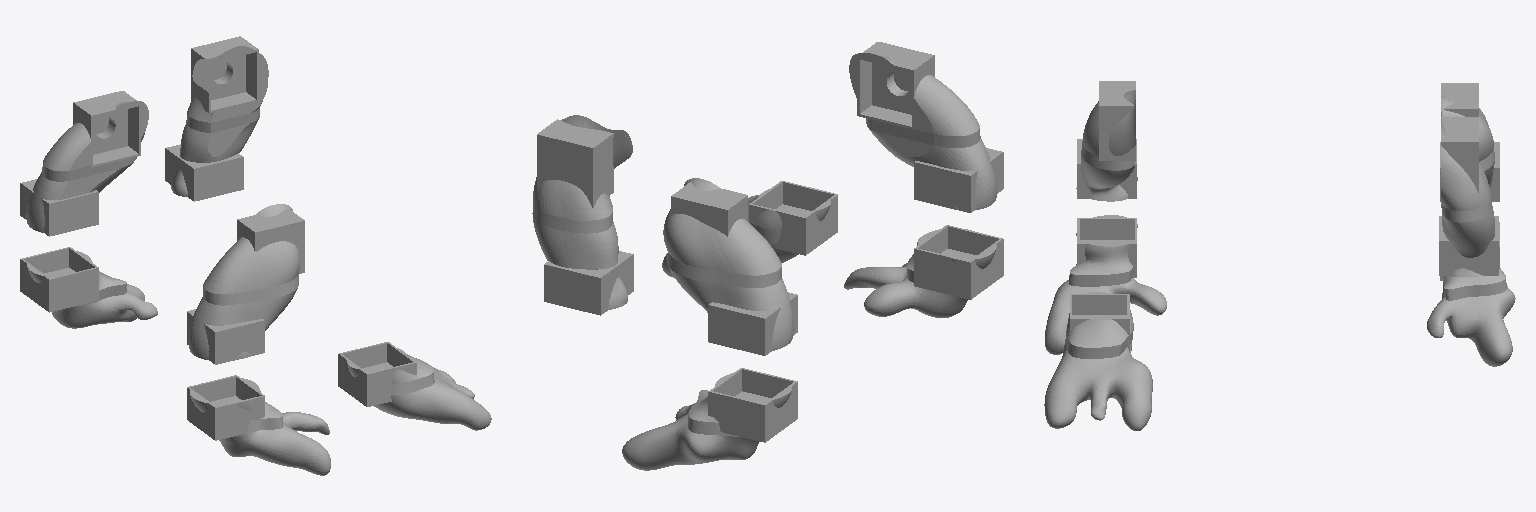
robot.urdf — FrogBot4_top-FrogBot4-z-2_bottom-FrogBot4-z-2:
<?xml version="1.0" ?>
<robot name="FrogBot4_top-FrogBot4-z-2_bottom-FrogBot4-z-2">

<material name="pla_5_percent_infill">
  <color rgba="0.700 0.700 0.700 1.000"/>
</material>

<link name="base_link">
  <inertial>
    <origin xyz="0 0 0" rpy="0 0 0"/>
    <mass value="1.4608203761339813"/>
    <inertia ixx="0.00496034401110324" iyy="0.010259632804669863" izz="0.010457868746855814" ixy="4.519338143051983e-05" iyz="5.808312742508133e-05" ixz="-0.001193761897574285"/>
  </inertial>
  <visual>
    <origin xyz="0 0 0" rpy="0 0 0"/>
    <geometry>
      <mesh filename="simple_meshes/base_link.stl" scale="0.001 0.001 0.001"/>
    </geometry>
    <material name="pla_5_percent_infill"/>
  </visual>
  <collision>
    <origin xyz="0 0 0" rpy="0 0 0"/>
    <geometry>
      <mesh filename="simple_meshes/base_link.stl" scale="0.001 0.001 0.001"/>
    </geometry>
  </collision>
</link>

<link name="body_1_0_1">
  <inertial>
    <origin xyz="-0.039935 -0.102508 -0.020563" rpy="0 0 0"/>
    <mass value="0.06729062247425834"/>
    <inertia ixx="6.650940585622273e-05" iyy="7.92938861357136e-05" izz="3.0239302509227567e-05" ixy="8.61005497754491e-07" iyz="1.986686418940721e-06" ixz="-1.1591827009887585e-05"/>
  </inertial>
  <visual>
    <origin xyz="-0.039935 -0.102508 -0.020563" rpy="0 0 0"/>
    <geometry>
      <mesh filename="simple_meshes/body_1_0_1.stl" scale="0.001 0.001 0.001"/>
    </geometry>
    <material name="pla_5_percent_infill"/>
  </visual>
  <collision>
    <origin xyz="-0.039935 -0.102508 -0.020563" rpy="0 0 0"/>
    <geometry>
      <mesh filename="simple_meshes/body_1_0_1.stl" scale="0.001 0.001 0.001"/>
    </geometry>
  </collision>
</link>

<link name="body_1_1_1">
  <inertial>
    <origin xyz="0.084829 -0.102508 0.010182" rpy="0 0 0"/>
    <mass value="0.07276819722240083"/>
    <inertia ixx="4.687801835107173e-05" iyy="8.494672327904085e-05" izz="5.6820282464320124e-05" ixy="-1.3864684695145133e-06" iyz="1.1931270394424697e-06" ixz="-1.9977013110724788e-05"/>
  </inertial>
  <visual>
    <origin xyz="0.084829 -0.102508 0.010182" rpy="0 0 0"/>
    <geometry>
      <mesh filename="simple_meshes/body_1_1_1.stl" scale="0.001 0.001 0.001"/>
    </geometry>
    <material name="pla_5_percent_infill"/>
  </visual>
  <collision>
    <origin xyz="0.084829 -0.102508 0.010182" rpy="0 0 0"/>
    <geometry>
      <mesh filename="simple_meshes/body_1_1_1.stl" scale="0.001 0.001 0.001"/>
    </geometry>
  </collision>
</link>

<link name="body_1_2_1">
  <inertial>
    <origin xyz="-0.032973 0.102508 -0.03352" rpy="0 0 0"/>
    <mass value="0.07366163827641593"/>
    <inertia ixx="8.467458968518054e-05" iyy="9.673499422654575e-05" izz="3.373636643162303e-05" ixy="-2.290624319359943e-06" iyz="-9.5702778967156e-06" ixz="-9.925140335739747e-06"/>
  </inertial>
  <visual>
    <origin xyz="-0.032973 0.102508 -0.03352" rpy="0 0 0"/>
    <geometry>
      <mesh filename="simple_meshes/body_1_2_1.stl" scale="0.001 0.001 0.001"/>
    </geometry>
    <material name="pla_5_percent_infill"/>
  </visual>
  <collision>
    <origin xyz="-0.032973 0.102508 -0.03352" rpy="0 0 0"/>
    <geometry>
      <mesh filename="simple_meshes/body_1_2_1.stl" scale="0.001 0.001 0.001"/>
    </geometry>
  </collision>
</link>

<link name="body_1_3_1">
  <inertial>
    <origin xyz="0.075405 0.102508 -0.000907" rpy="0 0 0"/>
    <mass value="0.07818238057097533"/>
    <inertia ixx="5.2120243250322346e-05" iyy="9.10714484717417e-05" izz="5.947560682158107e-05" ixy="3.6260329410895895e-07" iyz="-1.2020559512422352e-06" ixz="-2.0193977673071977e-05"/>
  </inertial>
  <visual>
    <origin xyz="0.075405 0.102508 -0.000907" rpy="0 0 0"/>
    <geometry>
      <mesh filename="simple_meshes/body_1_3_1.stl" scale="0.001 0.001 0.001"/>
    </geometry>
    <material name="pla_5_percent_infill"/>
  </visual>
  <collision>
    <origin xyz="0.075405 0.102508 -0.000907" rpy="0 0 0"/>
    <geometry>
      <mesh filename="simple_meshes/body_1_3_1.stl" scale="0.001 0.001 0.001"/>
    </geometry>
  </collision>
</link>

<link name="body_2_0_1">
  <inertial>
    <origin xyz="-0.025656 -0.145015 0.095436" rpy="0 0 0"/>
    <mass value="0.06887271365029556"/>
    <inertia ixx="4.137229292340951e-05" iyy="6.360498681465677e-05" izz="7.721780878036503e-05" ixy="-7.092899948999429e-07" iyz="1.6196918583167436e-07" ixz="1.626886085428678e-05"/>
  </inertial>
  <visual>
    <origin xyz="-0.025656 -0.145015 0.095436" rpy="0 0 0"/>
    <geometry>
      <mesh filename="simple_meshes/body_2_0_1.stl" scale="0.001 0.001 0.001"/>
    </geometry>
    <material name="pla_5_percent_infill"/>
  </visual>
  <collision>
    <origin xyz="-0.025656 -0.145015 0.095436" rpy="0 0 0"/>
    <geometry>
      <mesh filename="simple_meshes/body_2_0_1.stl" scale="0.001 0.001 0.001"/>
    </geometry>
  </collision>
</link>

<link name="body_2_1_1">
  <inertial>
    <origin xyz="0.114857 -0.145661 0.095438" rpy="0 0 0"/>
    <mass value="0.061491149540836114"/>
    <inertia ixx="2.9038160554975892e-05" iyy="5.925035389460183e-05" izz="5.7177831876327424e-05" ixy="-5.214527070099935e-06" iyz="3.557932019266404e-06" ixz="1.6889837178203897e-05"/>
  </inertial>
  <visual>
    <origin xyz="0.114857 -0.145661 0.095438" rpy="0 0 0"/>
    <geometry>
      <mesh filename="simple_meshes/body_2_1_1.stl" scale="0.001 0.001 0.001"/>
    </geometry>
    <material name="pla_5_percent_infill"/>
  </visual>
  <collision>
    <origin xyz="0.114857 -0.145661 0.095438" rpy="0 0 0"/>
    <geometry>
      <mesh filename="simple_meshes/body_2_1_1.stl" scale="0.001 0.001 0.001"/>
    </geometry>
  </collision>
</link>

<link name="body_2_2_1">
  <inertial>
    <origin xyz="-0.022601 0.152053 0.095436" rpy="0 0 0"/>
    <mass value="0.07545638433280771"/>
    <inertia ixx="4.528670282930806e-05" iyy="6.830122182420982e-05" izz="8.333303976025466e-05" ixy="-1.468652481155389e-06" iyz="3.094578438630688e-07" ixz="1.7578655410337087e-05"/>
  </inertial>
  <visual>
    <origin xyz="-0.022601 0.152053 0.095436" rpy="0 0 0"/>
    <geometry>
      <mesh filename="simple_meshes/body_2_2_1.stl" scale="0.001 0.001 0.001"/>
    </geometry>
    <material name="pla_5_percent_infill"/>
  </visual>
  <collision>
    <origin xyz="-0.022601 0.152053 0.095436" rpy="0 0 0"/>
    <geometry>
      <mesh filename="simple_meshes/body_2_2_1.stl" scale="0.001 0.001 0.001"/>
    </geometry>
  </collision>
</link>

<link name="body_2_3_1">
  <inertial>
    <origin xyz="0.12145 0.146005 0.095436" rpy="0 0 0"/>
    <mass value="0.05845963416799891"/>
    <inertia ixx="3.543240684613291e-05" iyy="4.741524438203965e-05" izz="5.765584367478345e-05" ixy="8.01669679764206e-06" iyz="-5.9882767929034415e-06" ixz="1.1882587774193743e-05"/>
  </inertial>
  <visual>
    <origin xyz="0.12145 0.146005 0.095436" rpy="0 0 0"/>
    <geometry>
      <mesh filename="simple_meshes/body_2_3_1.stl" scale="0.001 0.001 0.001"/>
    </geometry>
    <material name="pla_5_percent_infill"/>
  </visual>
  <collision>
    <origin xyz="0.12145 0.146005 0.095436" rpy="0 0 0"/>
    <geometry>
      <mesh filename="simple_meshes/body_2_3_1.stl" scale="0.001 0.001 0.001"/>
    </geometry>
  </collision>
</link>

<joint name="joint_1_0" type="revolute">
  <origin xyz="0.039935 0.102508 0.020563" rpy="0 0 0"/>
  <parent link="base_link"/>
  <child link="body_1_0_1"/>
  <axis xyz="0.0 1.0 0.0"/>
  <limit upper="1.2" lower="-1.2" effort="3.8" velocity="5.4"/>
</joint>
<transmission name="joint_1_0_tran">
  <type>transmission_interface/SimpleTransmission</type>
  <joint name="joint_1_0">
    <hardwareInterface>PositionJointInterface</hardwareInterface>
  </joint>
  <actuator name="joint_1_0_actr">
    <hardwareInterface>PositionJointInterface</hardwareInterface>
    <mechanicalReduction>1</mechanicalReduction>
  </actuator>
</transmission>

<joint name="joint_1_1" type="revolute">
  <origin xyz="-0.084829 0.102508 -0.010182" rpy="0 0 0"/>
  <parent link="base_link"/>
  <child link="body_1_1_1"/>
  <axis xyz="0.0 1.0 0.0"/>
  <limit upper="1.2" lower="-1.2" effort="3.8" velocity="5.4"/>
</joint>
<transmission name="joint_1_1_tran">
  <type>transmission_interface/SimpleTransmission</type>
  <joint name="joint_1_1">
    <hardwareInterface>PositionJointInterface</hardwareInterface>
  </joint>
  <actuator name="joint_1_1_actr">
    <hardwareInterface>PositionJointInterface</hardwareInterface>
    <mechanicalReduction>1</mechanicalReduction>
  </actuator>
</transmission>

<joint name="joint_1_2" type="revolute">
  <origin xyz="0.032973 -0.102508 0.03352" rpy="0 0 0"/>
  <parent link="base_link"/>
  <child link="body_1_2_1"/>
  <axis xyz="0.0 1.0 0.0"/>
  <limit upper="1.2" lower="-1.2" effort="3.8" velocity="5.4"/>
</joint>
<transmission name="joint_1_2_tran">
  <type>transmission_interface/SimpleTransmission</type>
  <joint name="joint_1_2">
    <hardwareInterface>PositionJointInterface</hardwareInterface>
  </joint>
  <actuator name="joint_1_2_actr">
    <hardwareInterface>PositionJointInterface</hardwareInterface>
    <mechanicalReduction>1</mechanicalReduction>
  </actuator>
</transmission>

<joint name="joint_1_3" type="revolute">
  <origin xyz="-0.075405 -0.102508 0.000907" rpy="0 0 0"/>
  <parent link="base_link"/>
  <child link="body_1_3_1"/>
  <axis xyz="0.0 1.0 0.0"/>
  <limit upper="1.2" lower="-1.2" effort="3.8" velocity="5.4"/>
</joint>
<transmission name="joint_1_3_tran">
  <type>transmission_interface/SimpleTransmission</type>
  <joint name="joint_1_3">
    <hardwareInterface>PositionJointInterface</hardwareInterface>
  </joint>
  <actuator name="joint_1_3_actr">
    <hardwareInterface>PositionJointInterface</hardwareInterface>
    <mechanicalReduction>1</mechanicalReduction>
  </actuator>
</transmission>

<joint name="joint_2_0" type="revolute">
  <origin xyz="-0.014279 0.042507 -0.115999" rpy="0 0 0"/>
  <parent link="body_1_0_1"/>
  <child link="body_2_0_1"/>
  <axis xyz="0.0 0.0 1.0"/>
  <limit upper="1.2" lower="-1.2" effort="3.8" velocity="5.4"/>
</joint>
<transmission name="joint_2_0_tran">
  <type>transmission_interface/SimpleTransmission</type>
  <joint name="joint_2_0">
    <hardwareInterface>PositionJointInterface</hardwareInterface>
  </joint>
  <actuator name="joint_2_0_actr">
    <hardwareInterface>PositionJointInterface</hardwareInterface>
    <mechanicalReduction>1</mechanicalReduction>
  </actuator>
</transmission>

<joint name="joint_2_1" type="revolute">
  <origin xyz="-0.030028 0.043153 -0.085256" rpy="0 0 0"/>
  <parent link="body_1_1_1"/>
  <child link="body_2_1_1"/>
  <axis xyz="0.0 0.0 1.0"/>
  <limit upper="1.2" lower="-1.2" effort="3.8" velocity="5.4"/>
</joint>
<transmission name="joint_2_1_tran">
  <type>transmission_interface/SimpleTransmission</type>
  <joint name="joint_2_1">
    <hardwareInterface>PositionJointInterface</hardwareInterface>
  </joint>
  <actuator name="joint_2_1_actr">
    <hardwareInterface>PositionJointInterface</hardwareInterface>
    <mechanicalReduction>1</mechanicalReduction>
  </actuator>
</transmission>

<joint name="joint_2_2" type="revolute">
  <origin xyz="-0.010372 -0.049545 -0.128956" rpy="0 0 0"/>
  <parent link="body_1_2_1"/>
  <child link="body_2_2_1"/>
  <axis xyz="0.0 0.0 1.0"/>
  <limit upper="1.2" lower="-1.2" effort="3.8" velocity="5.4"/>
</joint>
<transmission name="joint_2_2_tran">
  <type>transmission_interface/SimpleTransmission</type>
  <joint name="joint_2_2">
    <hardwareInterface>PositionJointInterface</hardwareInterface>
  </joint>
  <actuator name="joint_2_2_actr">
    <hardwareInterface>PositionJointInterface</hardwareInterface>
    <mechanicalReduction>1</mechanicalReduction>
  </actuator>
</transmission>

<joint name="joint_2_3" type="revolute">
  <origin xyz="-0.046045 -0.043497 -0.096343" rpy="0 0 0"/>
  <parent link="body_1_3_1"/>
  <child link="body_2_3_1"/>
  <axis xyz="0.0 0.0 1.0"/>
  <limit upper="1.2" lower="-1.2" effort="3.8" velocity="5.4"/>
</joint>
<transmission name="joint_2_3_tran">
  <type>transmission_interface/SimpleTransmission</type>
  <joint name="joint_2_3">
    <hardwareInterface>PositionJointInterface</hardwareInterface>
  </joint>
  <actuator name="joint_2_3_actr">
    <hardwareInterface>PositionJointInterface</hardwareInterface>
    <mechanicalReduction>1</mechanicalReduction>
  </actuator>
</transmission>

</robot>

--- What the picture shows (computed from the rendered views, not written in the file) ---
The picture shows the robot from 3 angles, left to right: view 1: azimuth 30°, elevation 25°; view 2: azimuth 150°, elevation 25°; view 3: azimuth 270°, elevation 25°; orthographic projection.
Robot: FrogBot4_top-FrogBot4-z-2_bottom-FrogBot4-z-2 — 9 links, 8 joints (8 revolute); root link base_link; default pose: all joints at 0.
Links seen in each view (by area): view 1: body_1_3_1, body_1_0_1, body_1_1_1, body_2_3_1, body_2_2_1, body_2_1_1; view 2: body_1_0_1, body_1_1_1, body_1_3_1, body_2_1_1, body_2_3_1, body_2_2_1; view 3: body_2_2_1, body_1_0_1, body_2_3_1, body_1_3_1, body_2_1_1, body_1_1_1.
Link boxes in pixels (x1,y1,x2,y2): body_1_3_1: (187, 204, 304, 364); body_1_0_1: (165, 36, 268, 201); body_1_1_1: (20, 91, 148, 236); body_2_3_1: (187, 375, 330, 475); body_2_2_1: (338, 342, 491, 430); body_2_1_1: (20, 247, 157, 328); body_1_0_1: (532, 115, 633, 315); body_1_1_1: (663, 178, 797, 355); body_1_3_1: (849, 42, 1003, 212); body_2_1_1: (622, 368, 797, 470); body_2_3_1: (844, 225, 1003, 317); body_2_2_1: (662, 181, 837, 277); body_2_2_1: (1044, 292, 1152, 430); body_1_0_1: (1439, 112, 1498, 276); body_2_3_1: (1045, 215, 1166, 354); body_1_3_1: (1076, 81, 1137, 201); body_2_1_1: (1427, 222, 1515, 366); body_1_1_1: (1440, 83, 1499, 201).
Bounding box of the posed robot: 0.269 × 0.379 × 0.2527 m (x, y, z).
Meshes: 9 distinct files referenced, 6 mesh visuals loaded (6 binary STL); not drawn: 3 (reference not matched to a file when rendering).